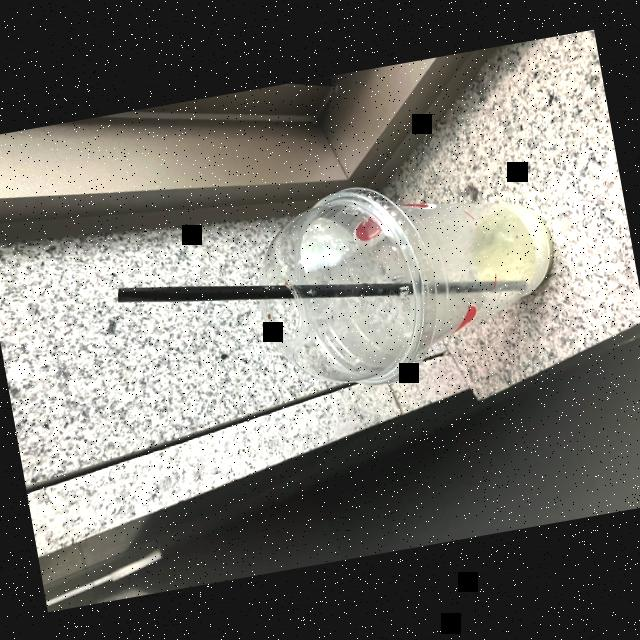plastic_cup: (240, 150, 569, 402)
plastic_cup_lid: (238, 172, 442, 404)
straw: (120, 214, 528, 366)
